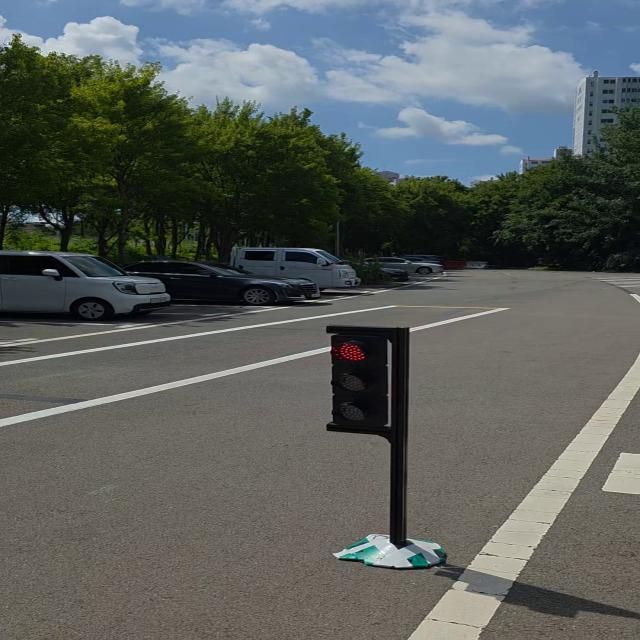red: (324, 325, 416, 442)
